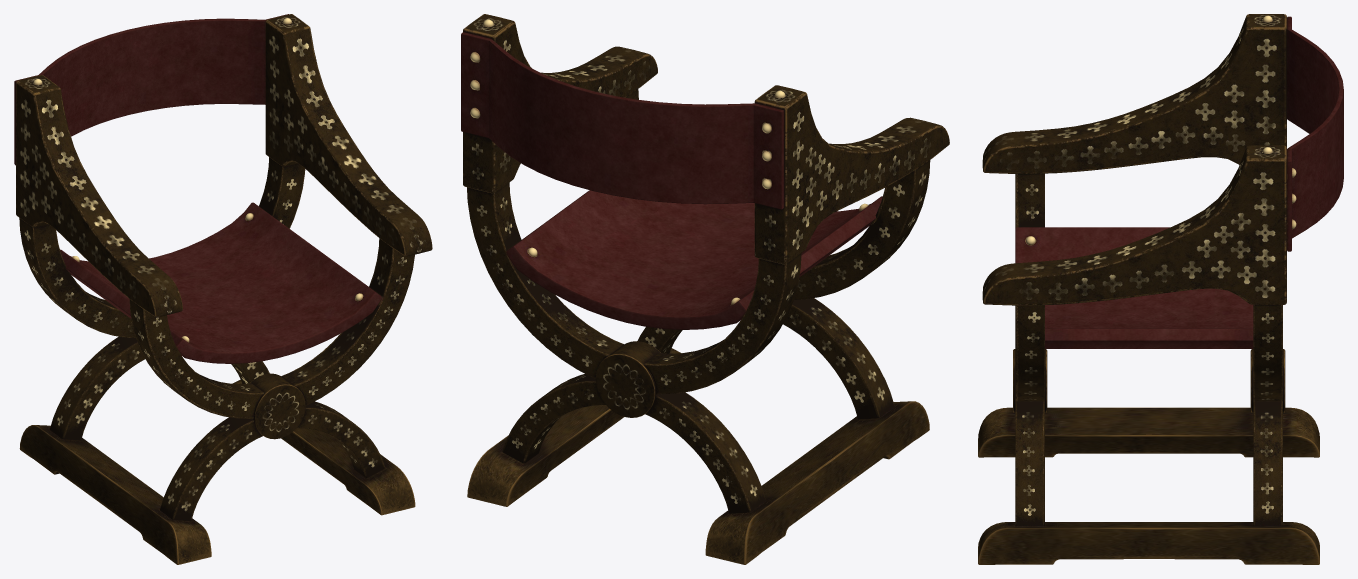
Rendered from obj_old_chair_0723b3.glb.
The picture shows the model from 3 angles, left to right: view 1: azimuth 30°, elevation 25°; view 2: azimuth 150°, elevation 25°; view 3: azimuth 270°, elevation 25°; orthographic projection. The views are drawn at different scales.
Parts seen in each view (by area): view 1: obj_old_chair_0723b3; view 2: obj_old_chair_0723b3; view 3: obj_old_chair_0723b3.
Part boxes in pixels (x1,y1,x2,y2): obj_old_chair_0723b3: (14, 14, 432, 564); obj_old_chair_0723b3: (461, 14, 949, 564); obj_old_chair_0723b3: (978, 14, 1343, 564).
Bounding box in the file's own units: 0.6342 × 0.85 × 0.6699.
Materials: 1 (1 with a texture image).
